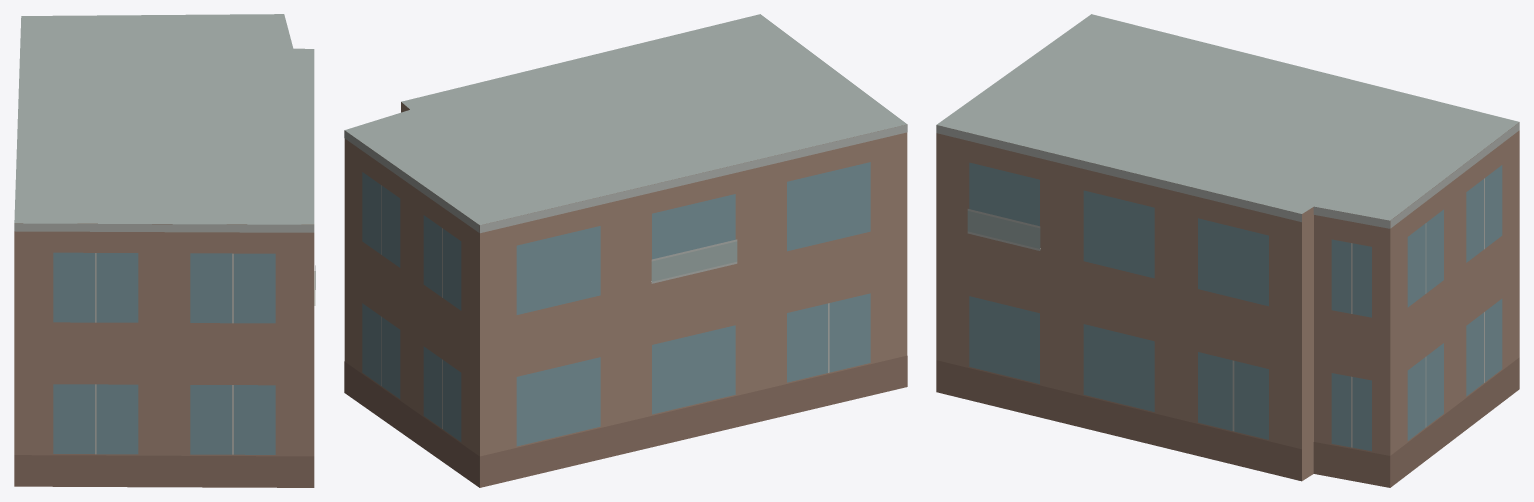
Rendered from survey-upis-32505794.glb.
The picture shows the model from 3 angles, left to right: view 1: azimuth 30°, elevation 25°; view 2: azimuth 150°, elevation 25°; view 3: azimuth 270°, elevation 25°; orthographic projection.
Parts seen in each view (by area): view 1: survey-upis-32505794.tmp; view 2: survey-upis-32505794.tmp; view 3: survey-upis-32505794.tmp.
Boxes of the visible parts, bbox=[...] form: survey-upis-32505794.tmp: bbox=[14, 14, 315, 487]; survey-upis-32505794.tmp: bbox=[344, 14, 907, 487]; survey-upis-32505794.tmp: bbox=[936, 14, 1519, 487].
Bounding box in the file's own units: 13.19 × 7.95 × 15.74.
